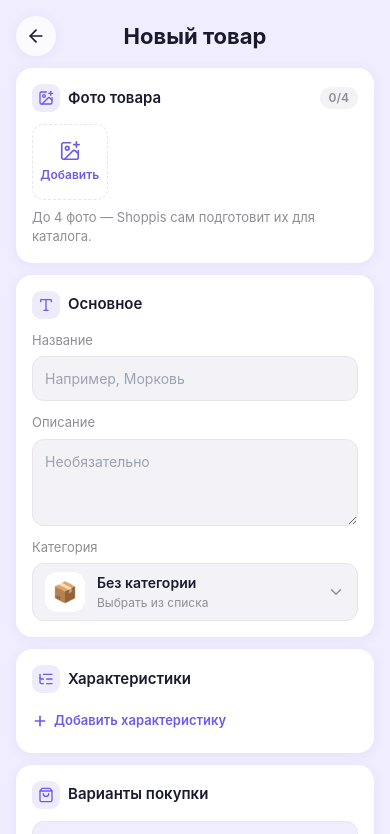
Scenario: CreateProductView — копирование черновиков (docs/23 §3.1, §7) › переключение не теряет данные карточек
The width and height of the screenshot is (390, 834).
Type "Морковь" into the field with placeholder "Например, Морковь" at (195, 378), box [32, 356, 358, 401]
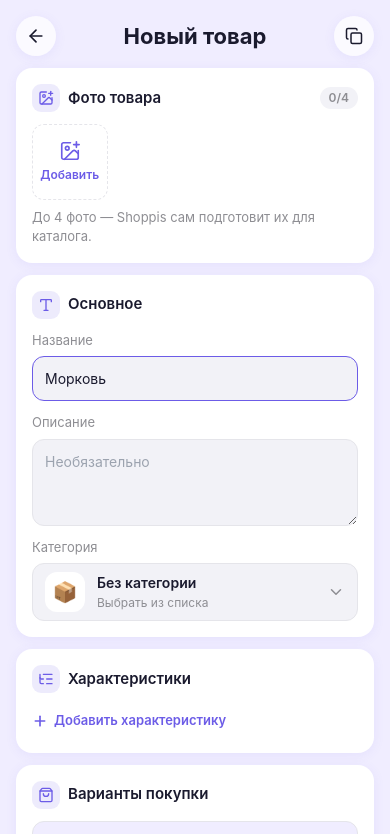
Click the button named "Создать копию" at (354, 36), box [334, 16, 374, 56]
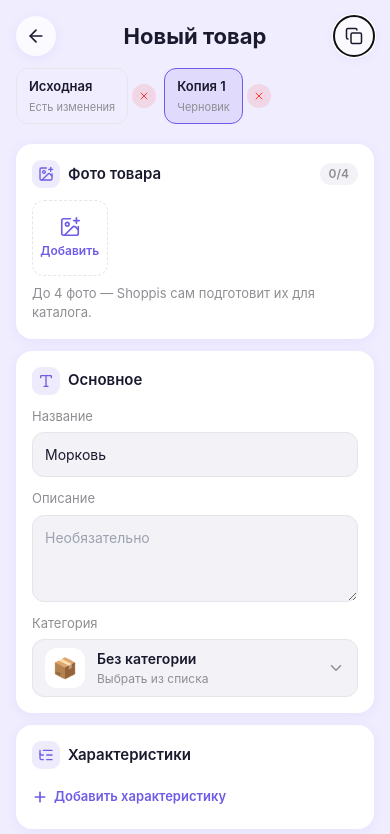
Replace the text in the field with placeholder "Например, Морковь" with "Копия" at (195, 454), box [32, 432, 358, 477]
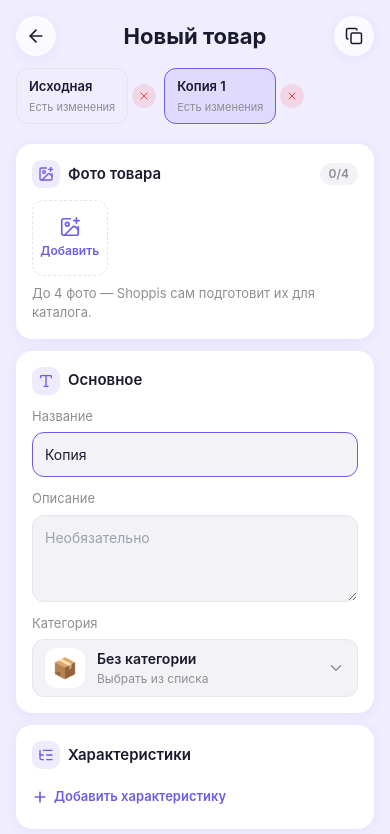
Click the tab "Исходная Есть изменения" at (72, 96), box [16, 68, 128, 124]
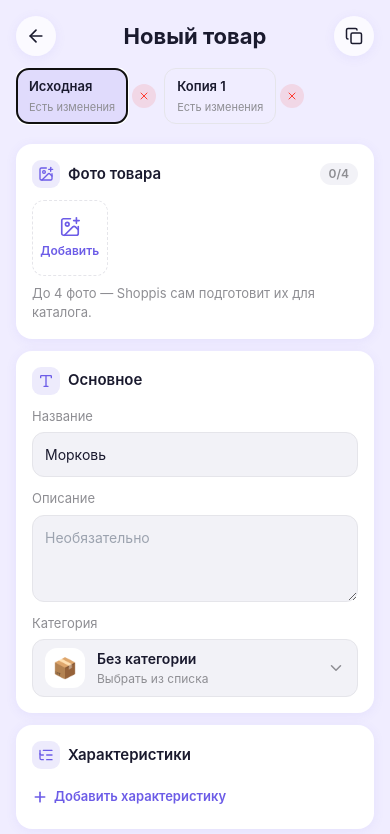
Check: the field with placeholder "Например, Морковь" holds "Морковь", box [32, 432, 358, 477]
Click the tab "Копия 1 Есть изменения" at (220, 96), box [164, 68, 276, 124]
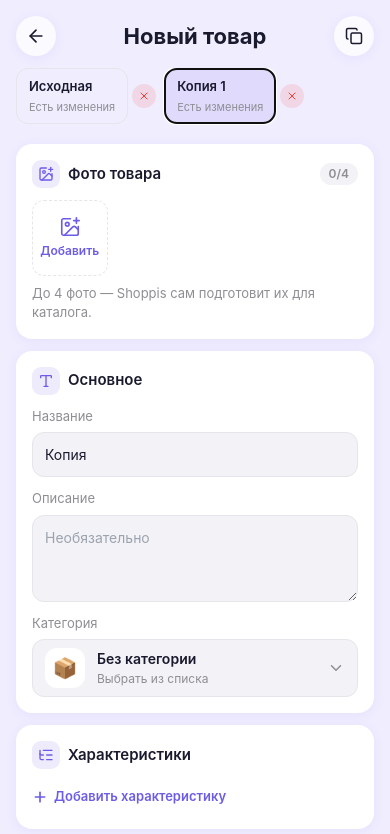
Check: the field with placeholder "Например, Морковь" holds "Копия", box [32, 432, 358, 477]
